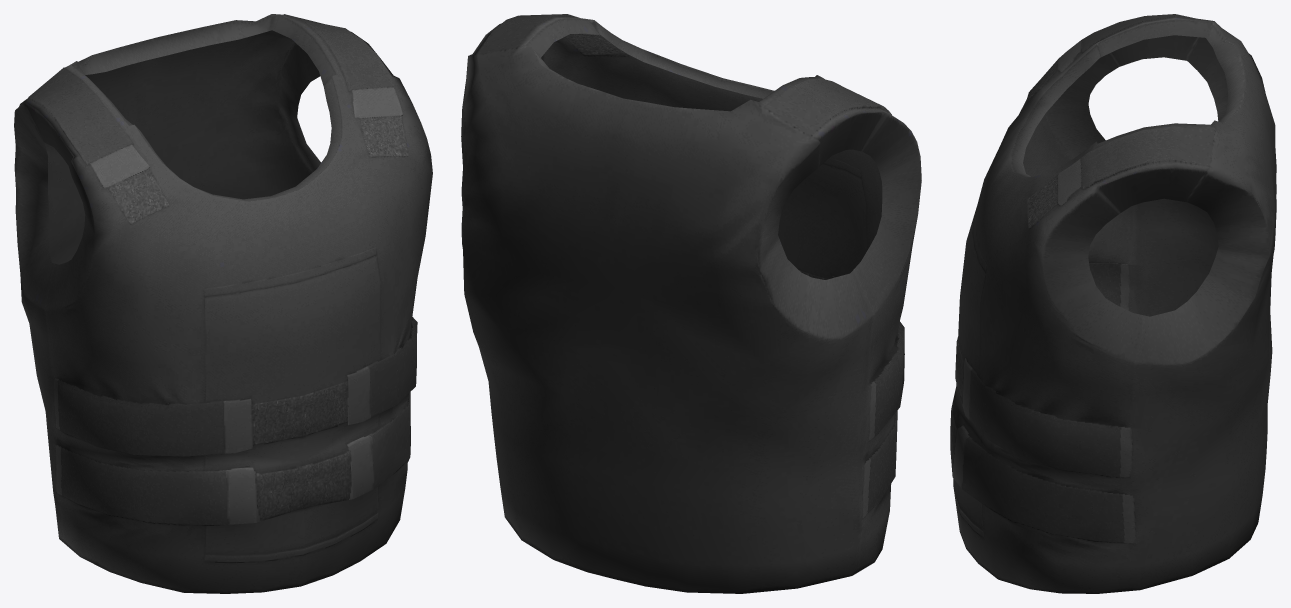
File: vest2.fbx
3 views of the same model, side by side, from view 1: azimuth 30°, elevation 25°; view 2: azimuth 150°, elevation 25°; view 3: azimuth 270°, elevation 25° (orthographic). The views are drawn at different scales.
Visible parts, largest first — view 1: Vest_1_T1; view 2: Vest_1_T1; view 3: Vest_1_T1.
Part boxes in pixels (x1,y1,x2,y2): Vest_1_T1: (14,14,432,593); Vest_1_T1: (461,14,921,593); Vest_1_T1: (950,14,1276,593).
Size of the model in its own units: 44.6 by 55.95 by 35.87.
